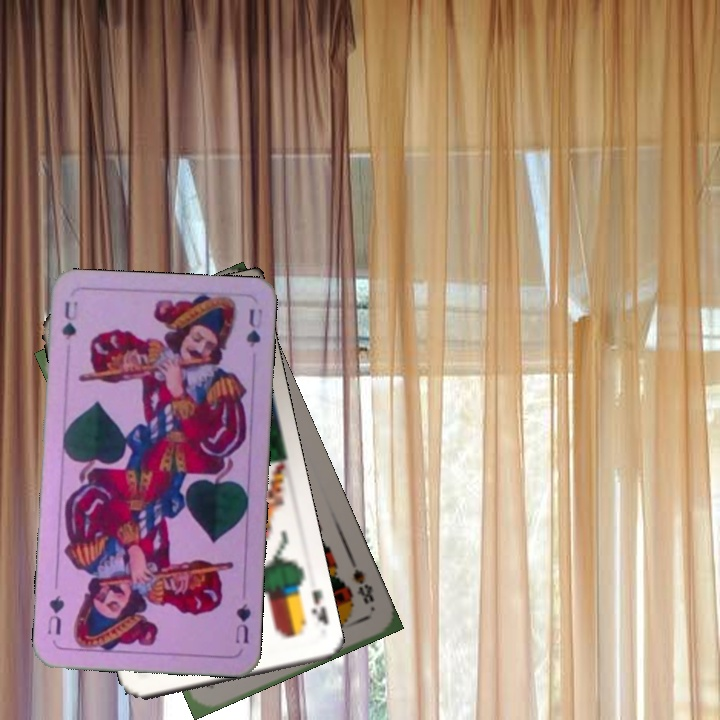EK: (306, 586, 331, 628)
GU: (57, 297, 81, 343), (231, 600, 254, 646)
S8: (346, 557, 377, 607)
